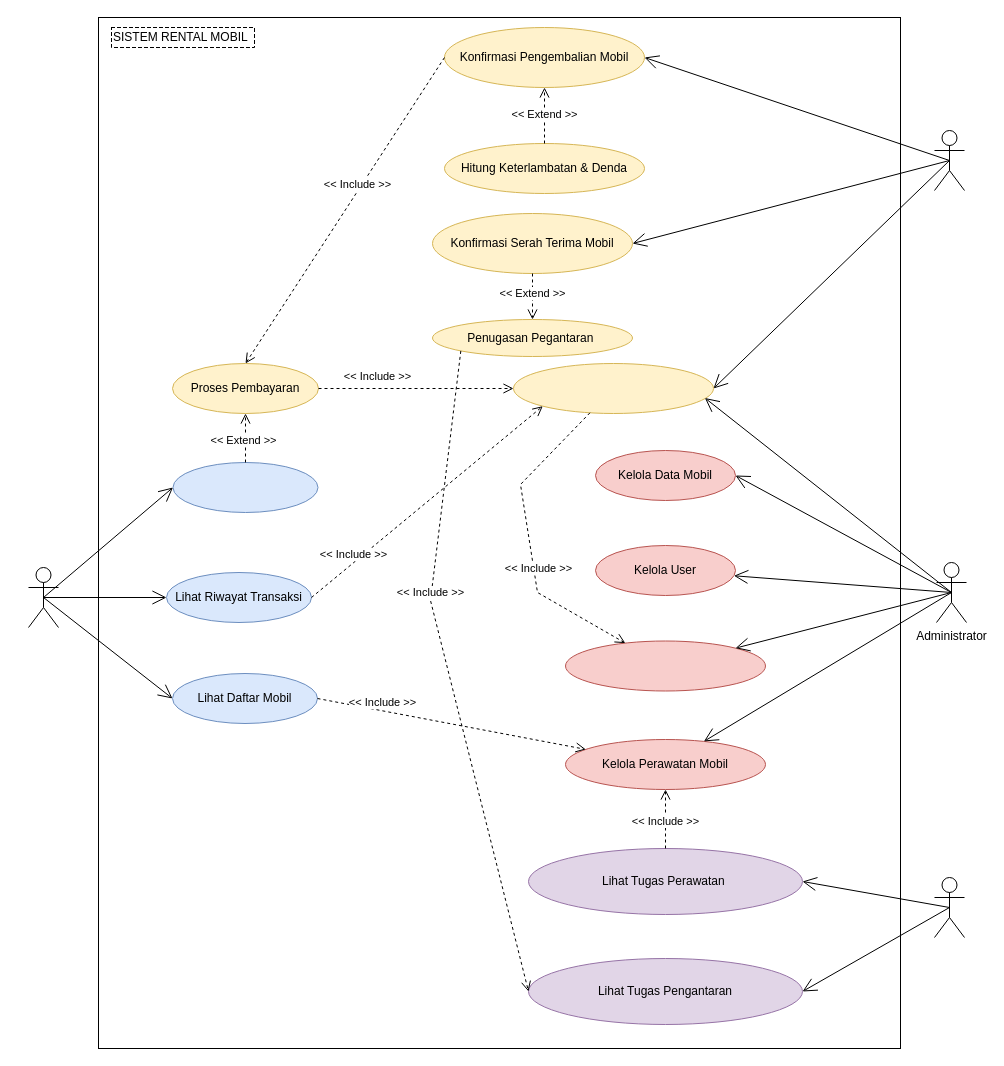
This 1004x1066 diagram has some shape labels left out. The centre of each missing label's shape, as x and y in pixels:
"Customer" goes at [43,597].
"Kasir" goes at [949,160].
"Lihat Daftar Transaksi" goes at [613,388].
"Lihat Laporan Pendapatan" goes at [665,665].
"Penyewahan Mobil" goes at [245,487].
"Staff" goes at [949,907].
